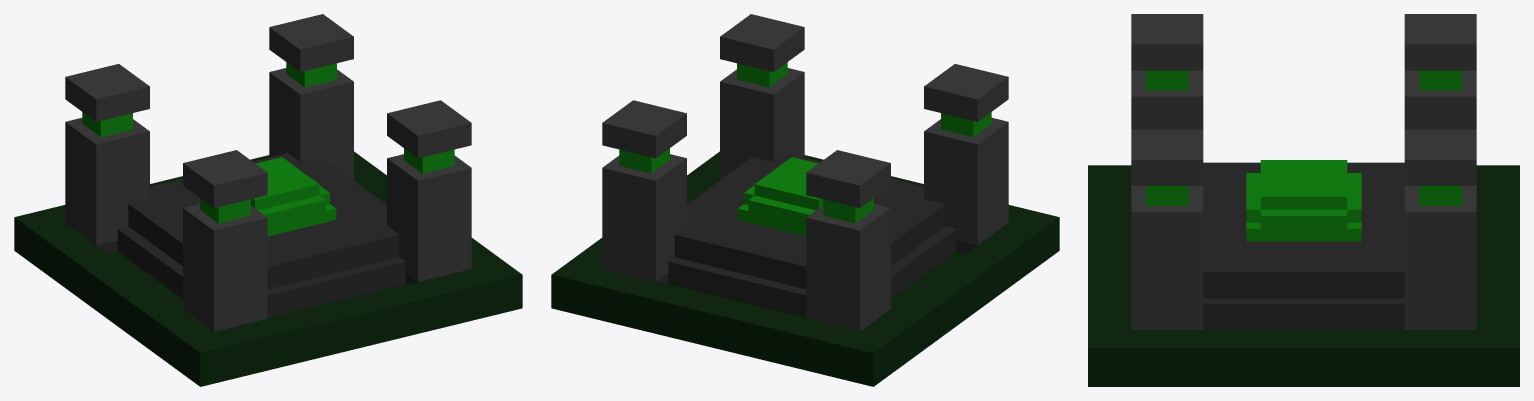
Rendered from ItemGenerator.obj.
The picture shows the model from 3 angles, left to right: view 1: azimuth 30°, elevation 25°; view 2: azimuth 150°, elevation 25°; view 3: azimuth 270°, elevation 25°; orthographic projection. The views are drawn at different scales.
Bounding box in the file's own units: 3 × 1.6 × 3.
1 material, 1 textured.
